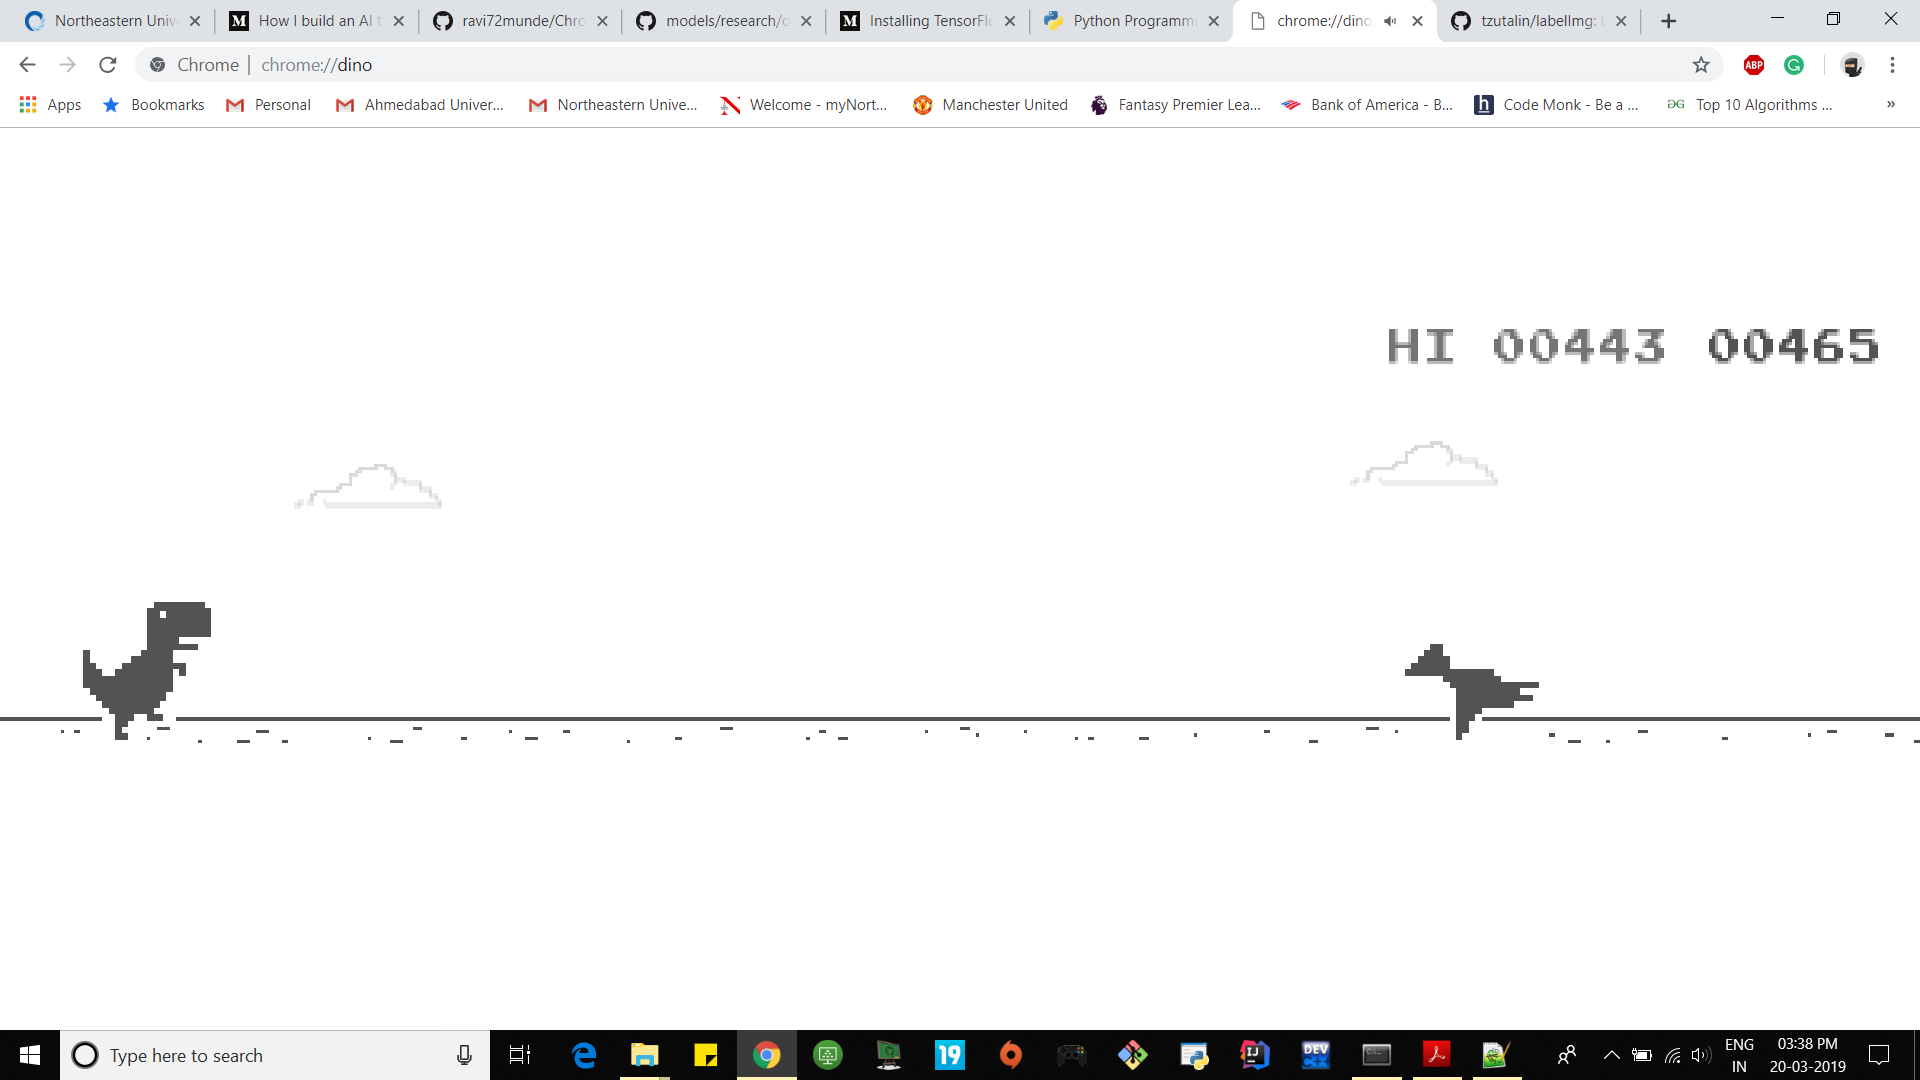bird: (1404, 645, 1545, 741)
dino: (83, 603, 211, 741)
